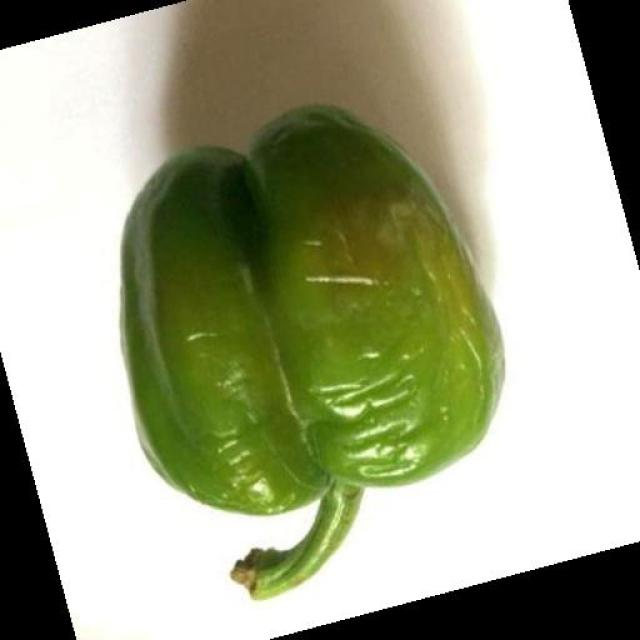Stale_Capsicum: (98, 177, 514, 486)
